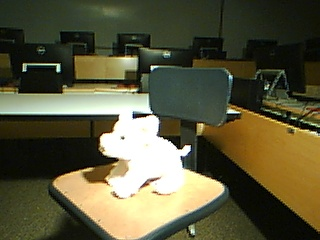piggy: (99, 107, 194, 200)
